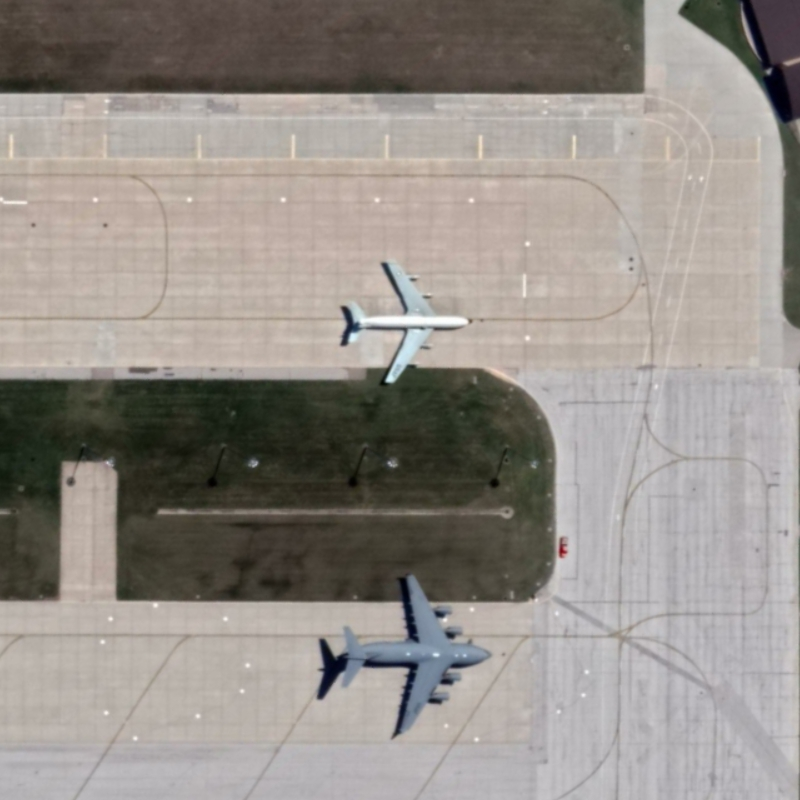A11: (337, 254, 475, 396)
A3: (327, 569, 496, 744)
